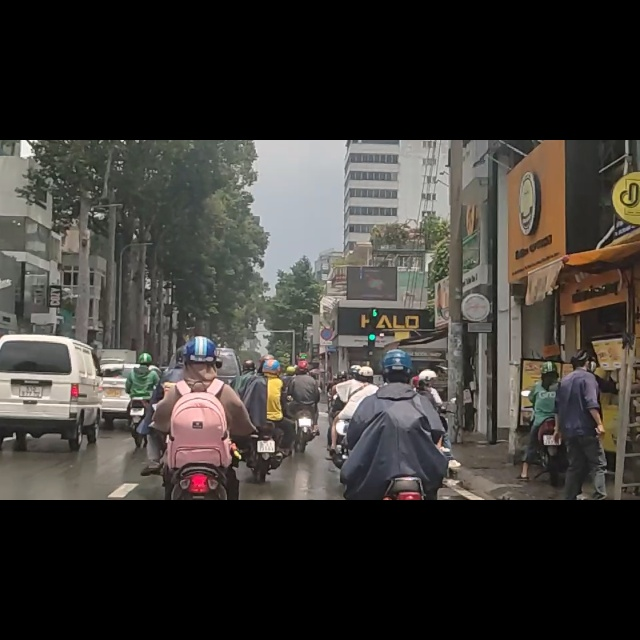bien_cam: (320, 332, 334, 356)
